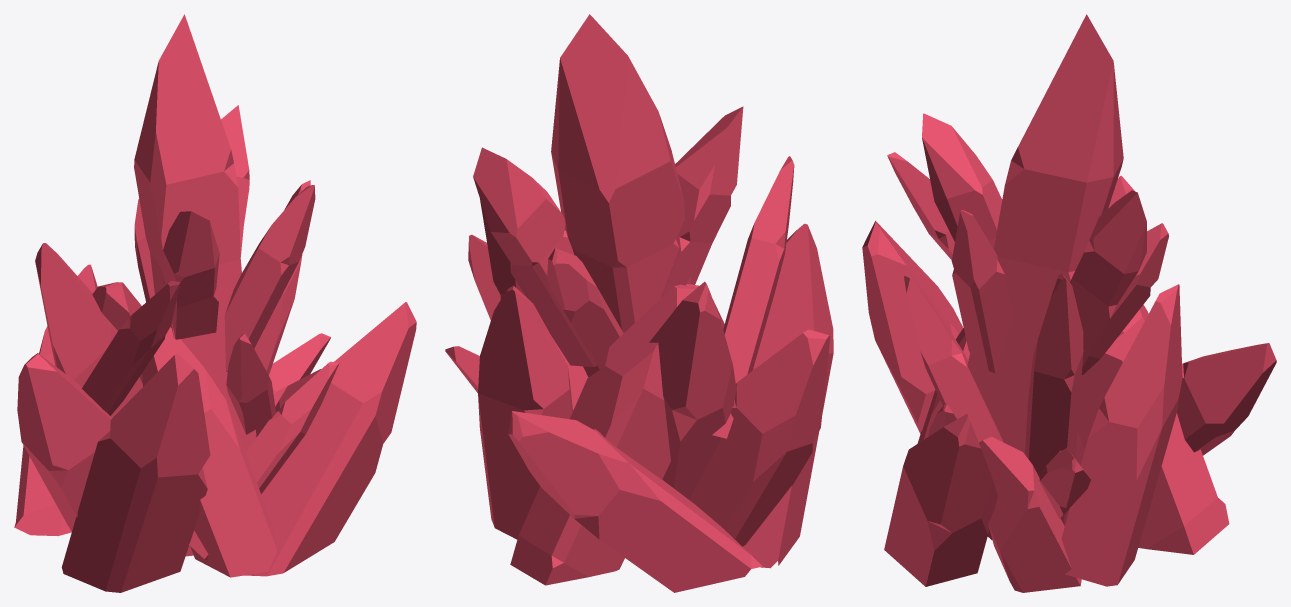
File: SM_Cristal_Small_2.fbx
The picture shows the model from 3 angles, left to right: view 1: azimuth 30°, elevation 25°; view 2: azimuth 150°, elevation 25°; view 3: azimuth 270°, elevation 25°; orthographic projection. The views are drawn at different scales.
Visible parts, largest first — view 1: SM_Cristal_Small_2; view 2: SM_Cristal_Small_2; view 3: SM_Cristal_Small_2.
Part boxes in pixels (x1=…): SM_Cristal_Small_2: x1=14, y1=14, x2=416, y2=592; SM_Cristal_Small_2: x1=445, y1=14, x2=833, y2=592; SM_Cristal_Small_2: x1=862, y1=14, x2=1276, y2=592.
Bounding box in the file's own units: 104 × 139 × 94.89.
